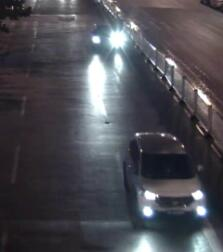car: (120, 130, 213, 232), (88, 18, 126, 56)
